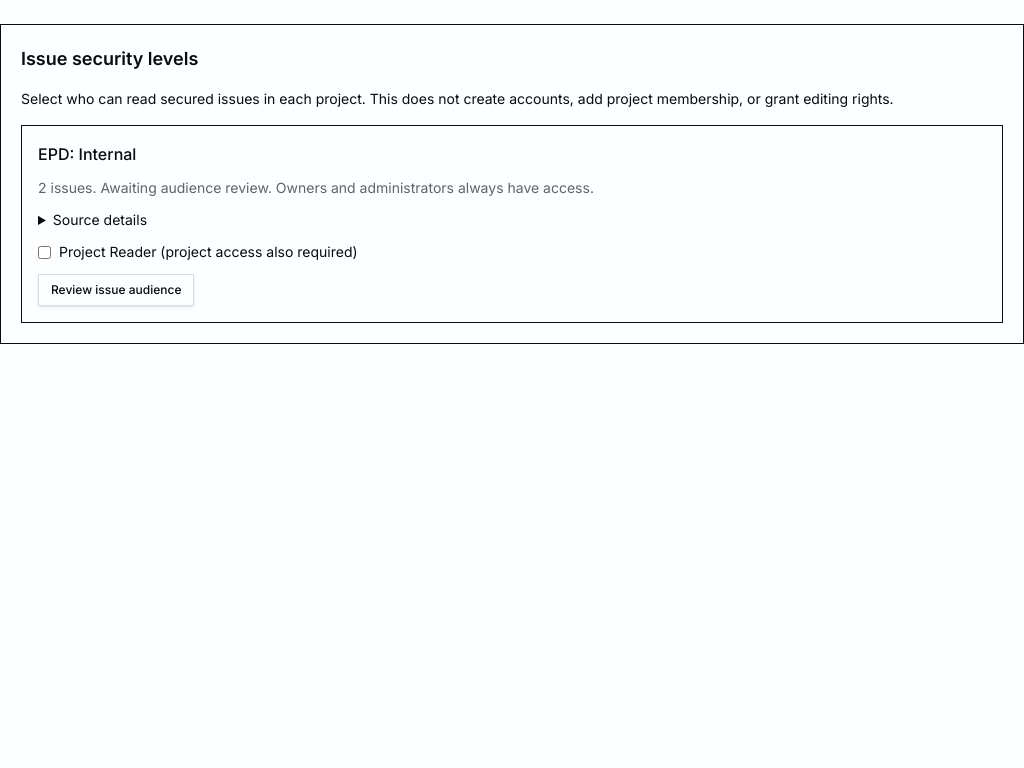
requires review of audience additions, scope, and absent project access before applying
The image size is (1024, 768).
Later steps or results of the test are not shown.
Click the checkbox labelled "Project Reader (project access also required)".
click(44, 252)  # box [38,246,51,258]
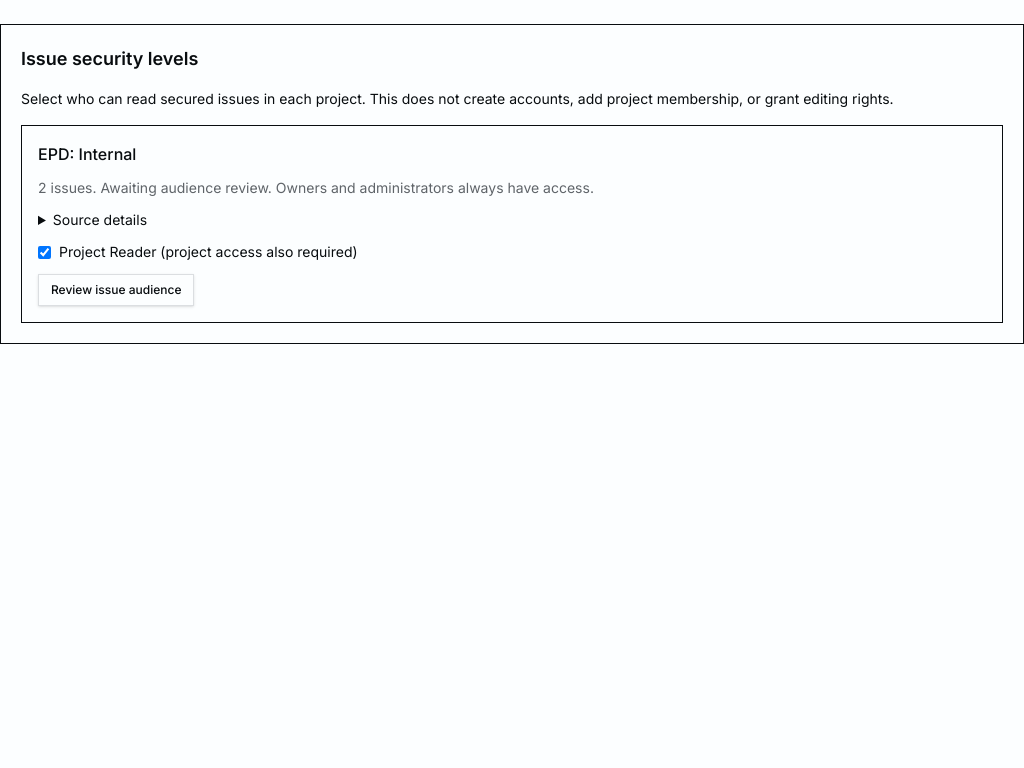
Expected: the text "Project Reader (project access also required)" is shown, [38,242,358,262]
Click the button "Review issue audience".
click(116, 290)  # box [38,274,194,306]
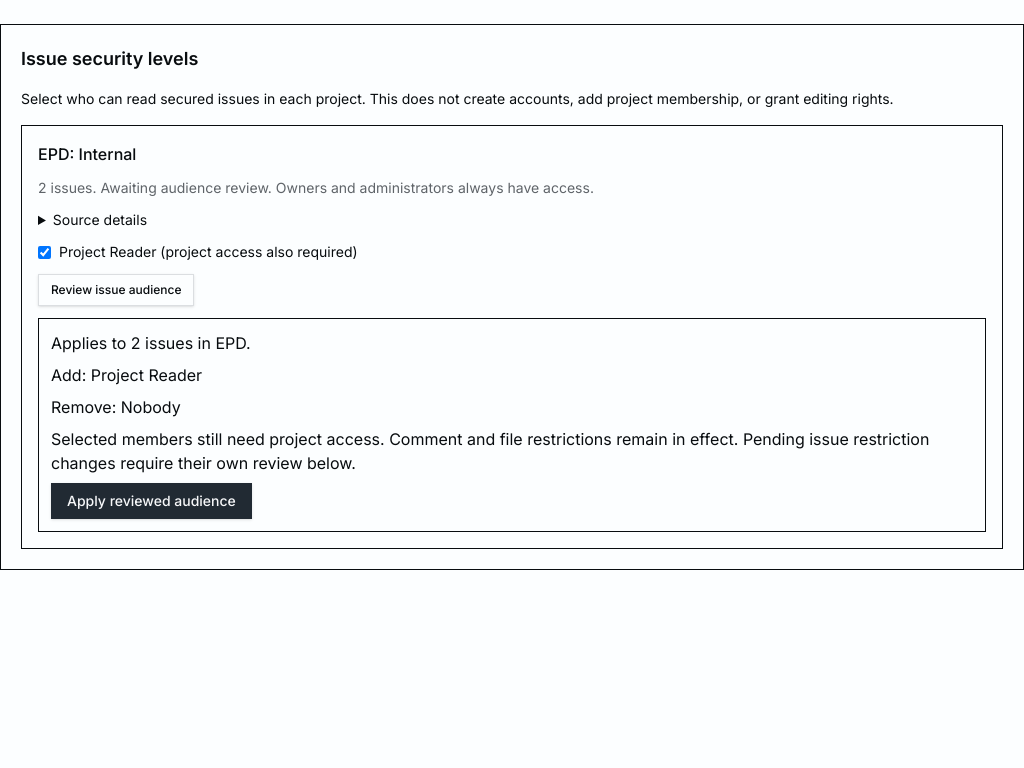
Result: the text "Add: Project Reader" is shown at [51,365,202,385]
Result: the text "Applies to 2 issues in EPD." is shown at [51,333,251,353]
